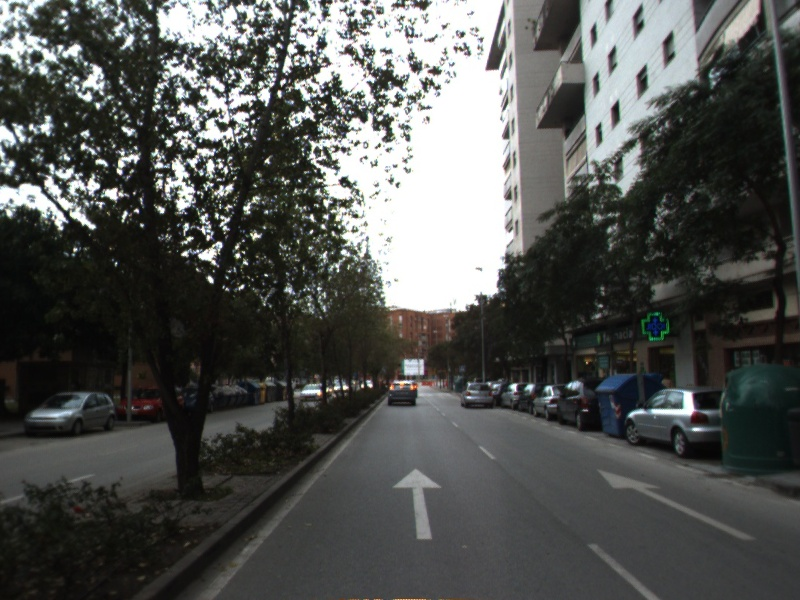STRAIGHT: (594, 466, 759, 542), (390, 466, 445, 541)
